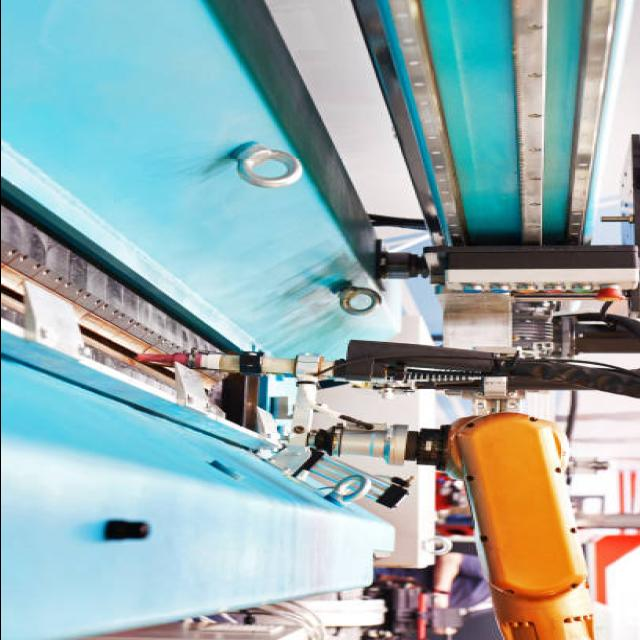Robotic-arm: (333, 408, 610, 640)
